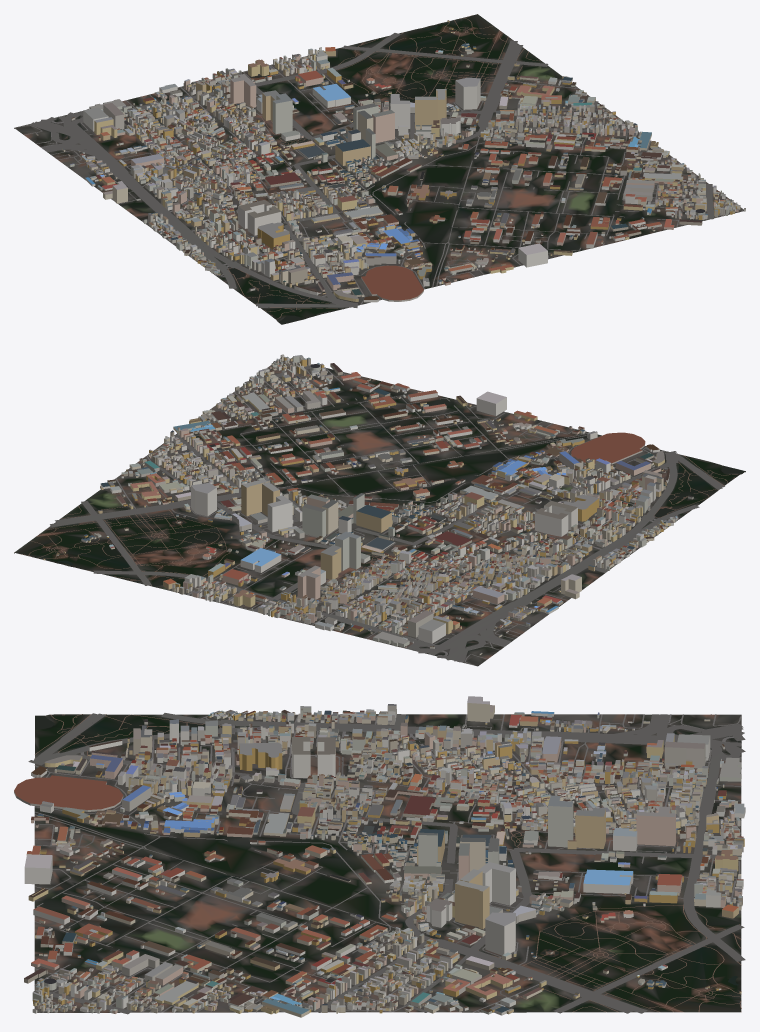
3 renders of one model, top to bottom at view 1: azimuth 30°, elevation 25°; view 2: azimuth 150°, elevation 25°; view 3: azimuth 270°, elevation 25°, orthographic. The views are drawn at different scales.
Visible parts, largest first — view 1: buildings, ground, roads; view 2: buildings, ground, roads; view 3: buildings, ground, roads.
Boxes of the visible parts, x1,y1,x2,y2 form: buildings: [35, 20, 745, 302]; ground: [14, 14, 743, 324]; roads: [17, 14, 743, 319]; buildings: [43, 354, 693, 655]; ground: [14, 358, 745, 666]; roads: [14, 358, 737, 665]; buildings: [14, 696, 745, 1017]; ground: [34, 714, 741, 1012]; roads: [28, 713, 745, 1014].
Bounding box in the file's own units: 1438 × 95.02 × 1451.
